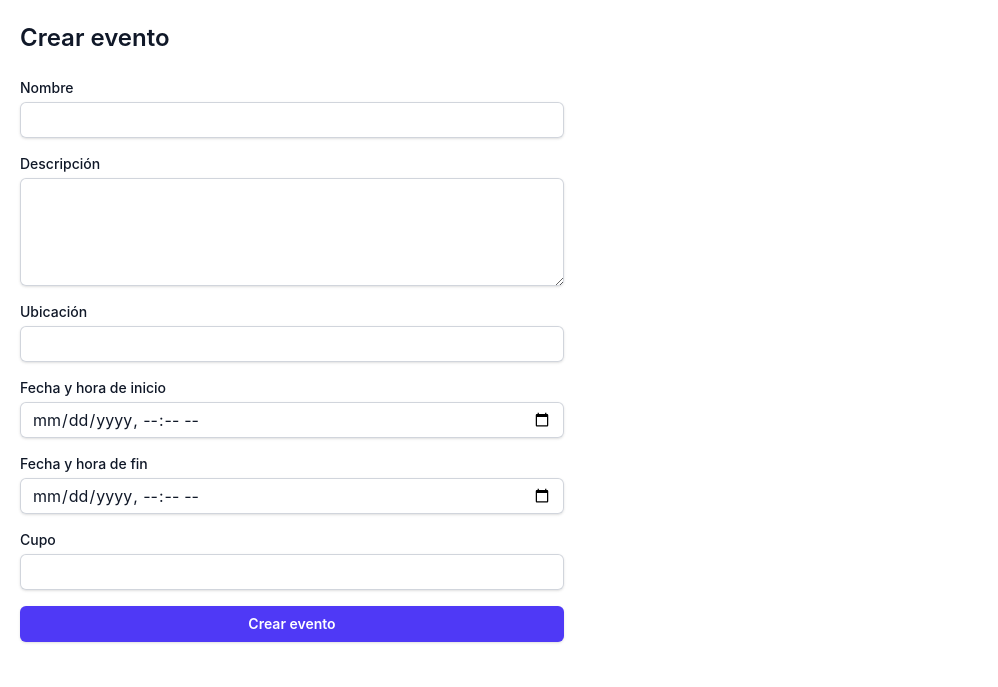
Test: EventFormPage — modo crear › mapea un 422 con fields al formulario (fechas inválidas)
In the field labelled "Nombre": (292, 120) x1=20 y1=102 x2=564 y2=138, type "Evento nuevo"
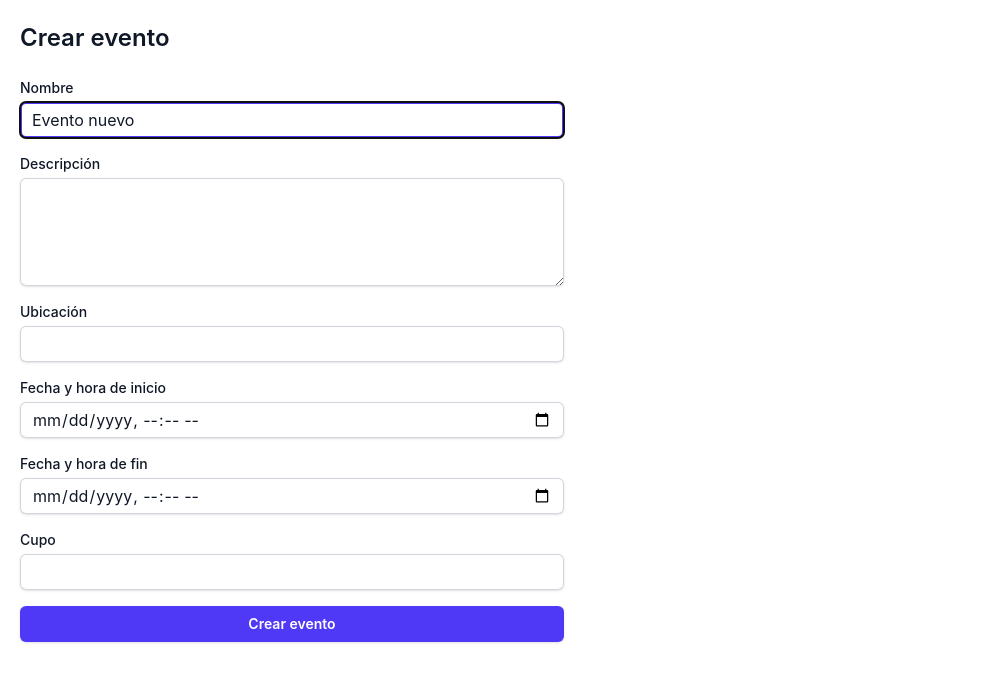
In the field labelled "Ubicación": (292, 344) x1=20 y1=326 x2=564 y2=362, type "Quito, Ecuador"
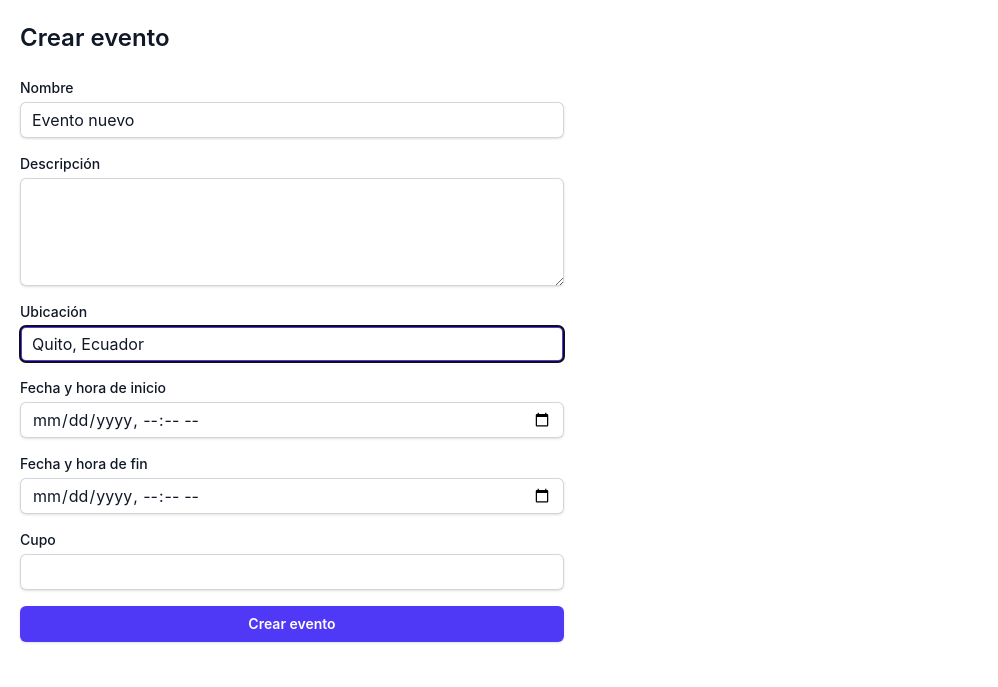
In the field labelled "Fecha y hora de inicio": (292, 420) x1=20 y1=402 x2=564 y2=438, type "2026-12-10T09:00"
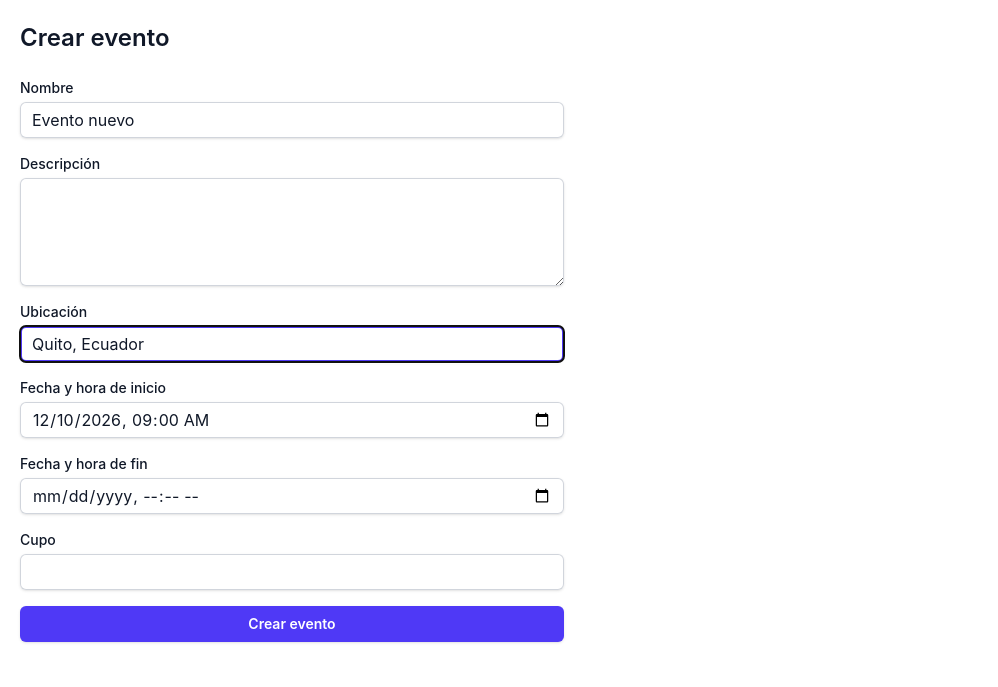
In the field labelled "Fecha y hora de fin": (292, 496) x1=20 y1=478 x2=564 y2=514, type "2026-12-10T12:00"
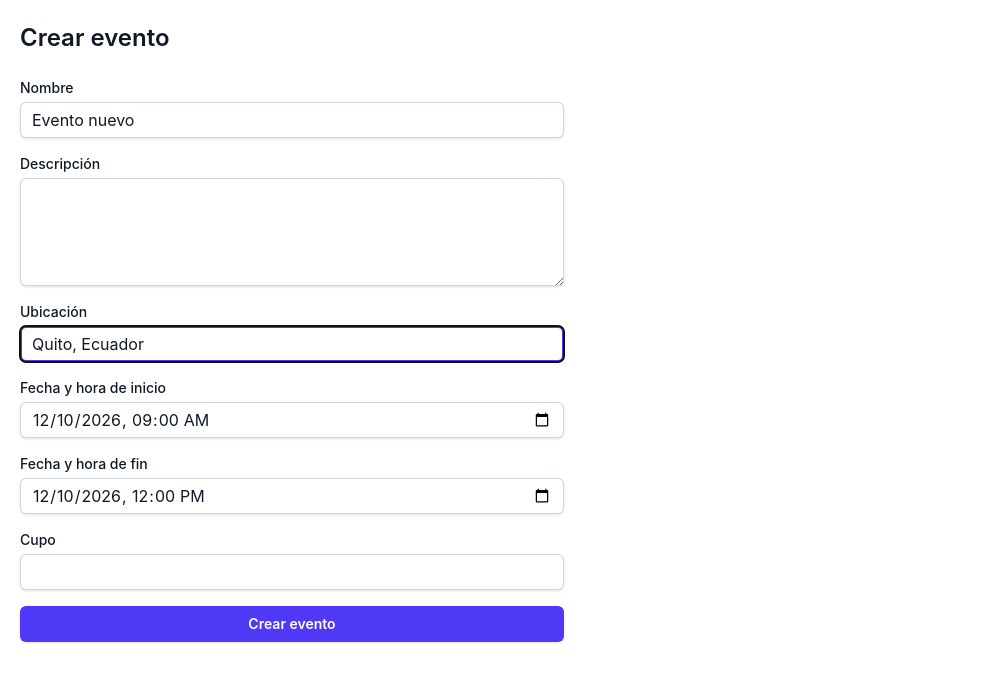
In the number field labelled "Cupo": (292, 572) x1=20 y1=554 x2=564 y2=590, type "10"
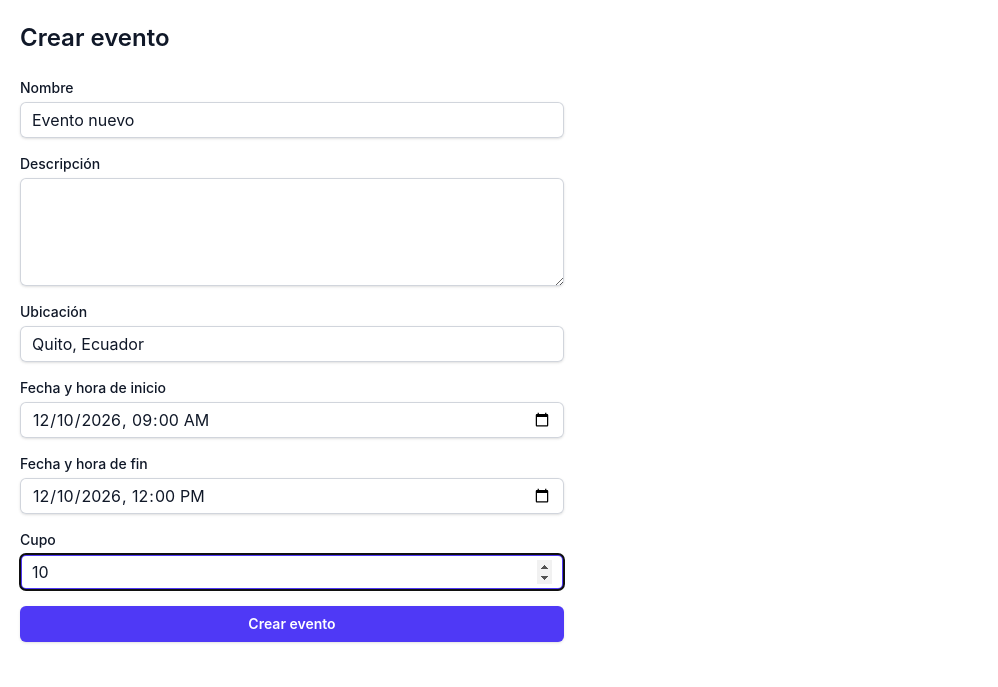
Click the button "Crear evento": (292, 624) x1=20 y1=606 x2=564 y2=642
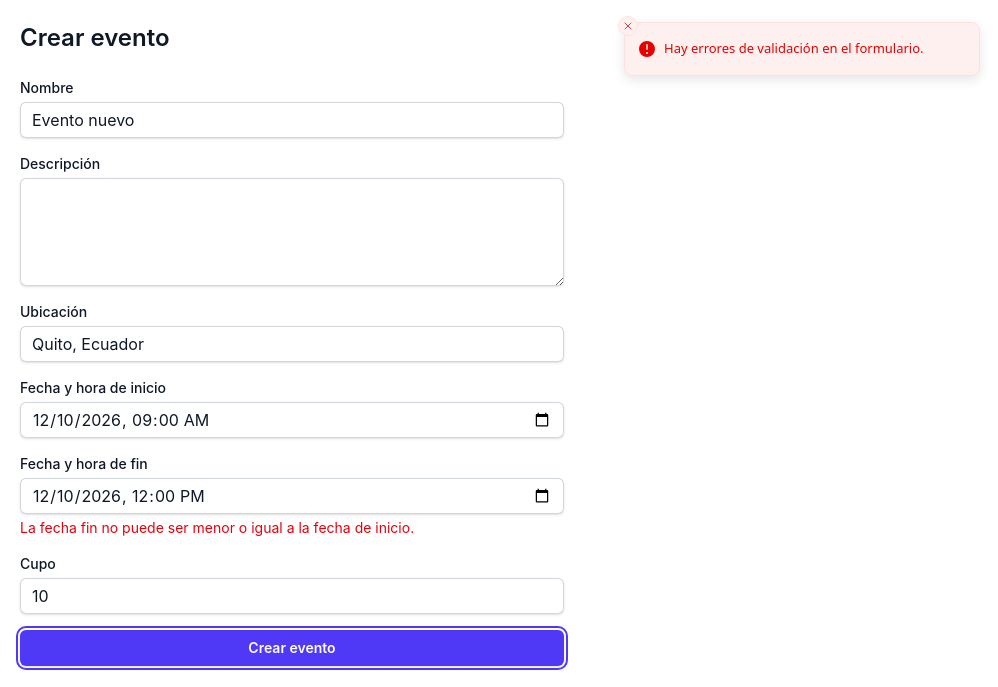
Expected: the button "Crear evento" is shown, x1=20 y1=630 x2=564 y2=666
Expected: the text "La fecha fin no puede ser menor o igual a la fecha de inicio." is shown, x1=20 y1=519 x2=414 y2=536
